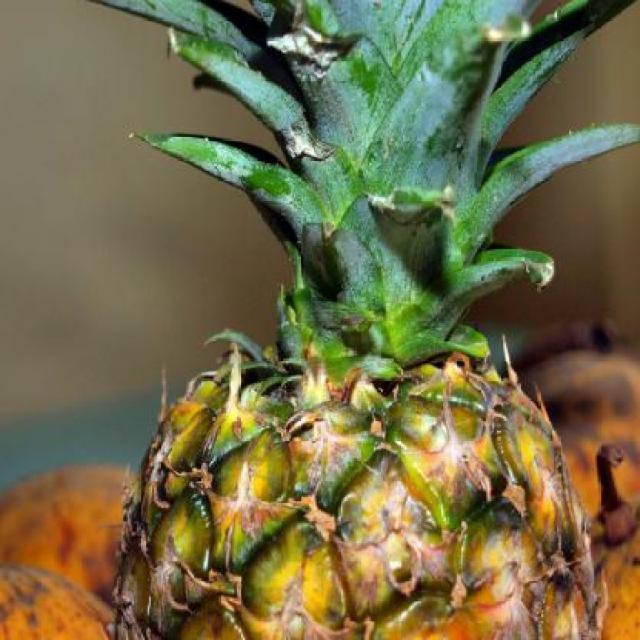Pineapple: (89, 0, 638, 638)
